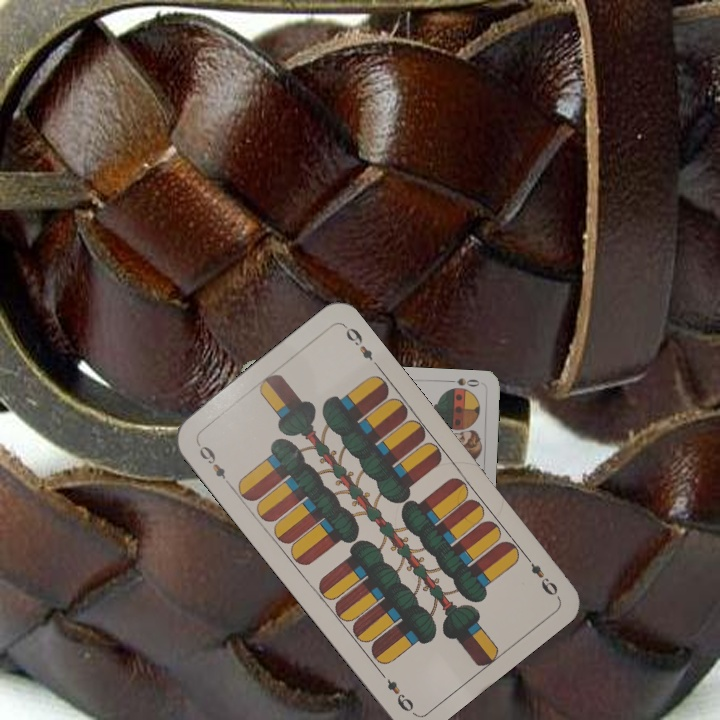E9: (519, 549, 561, 599), (193, 439, 229, 482)
SO: (444, 374, 482, 389)
